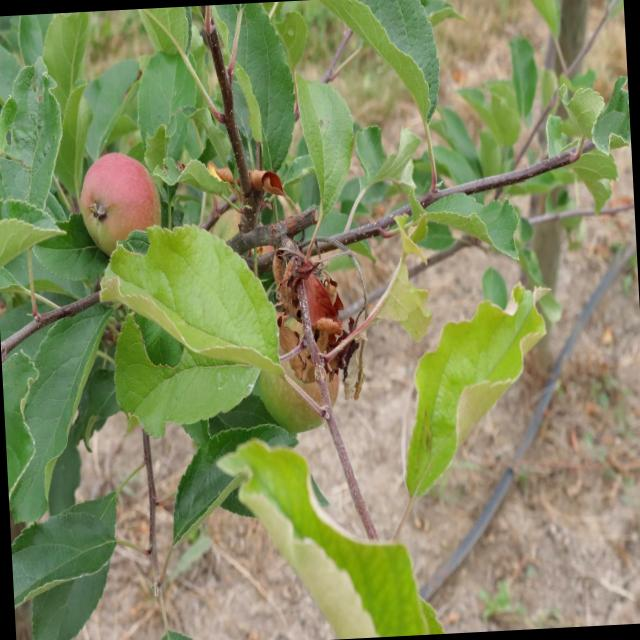-FireBlight-: (280, 235, 348, 378), (252, 162, 290, 204)
